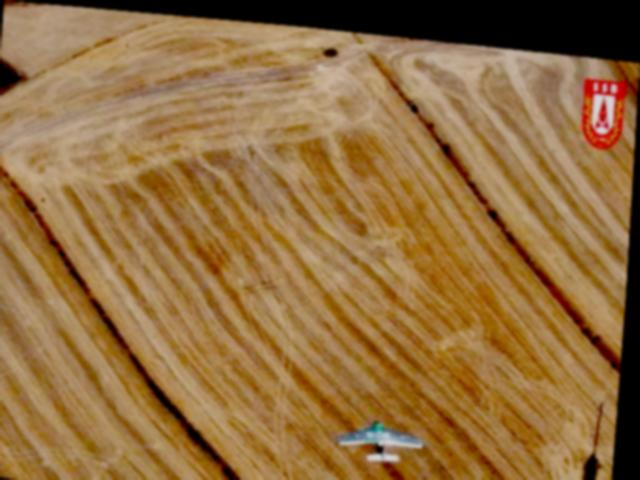uav: (337, 405, 430, 463)
